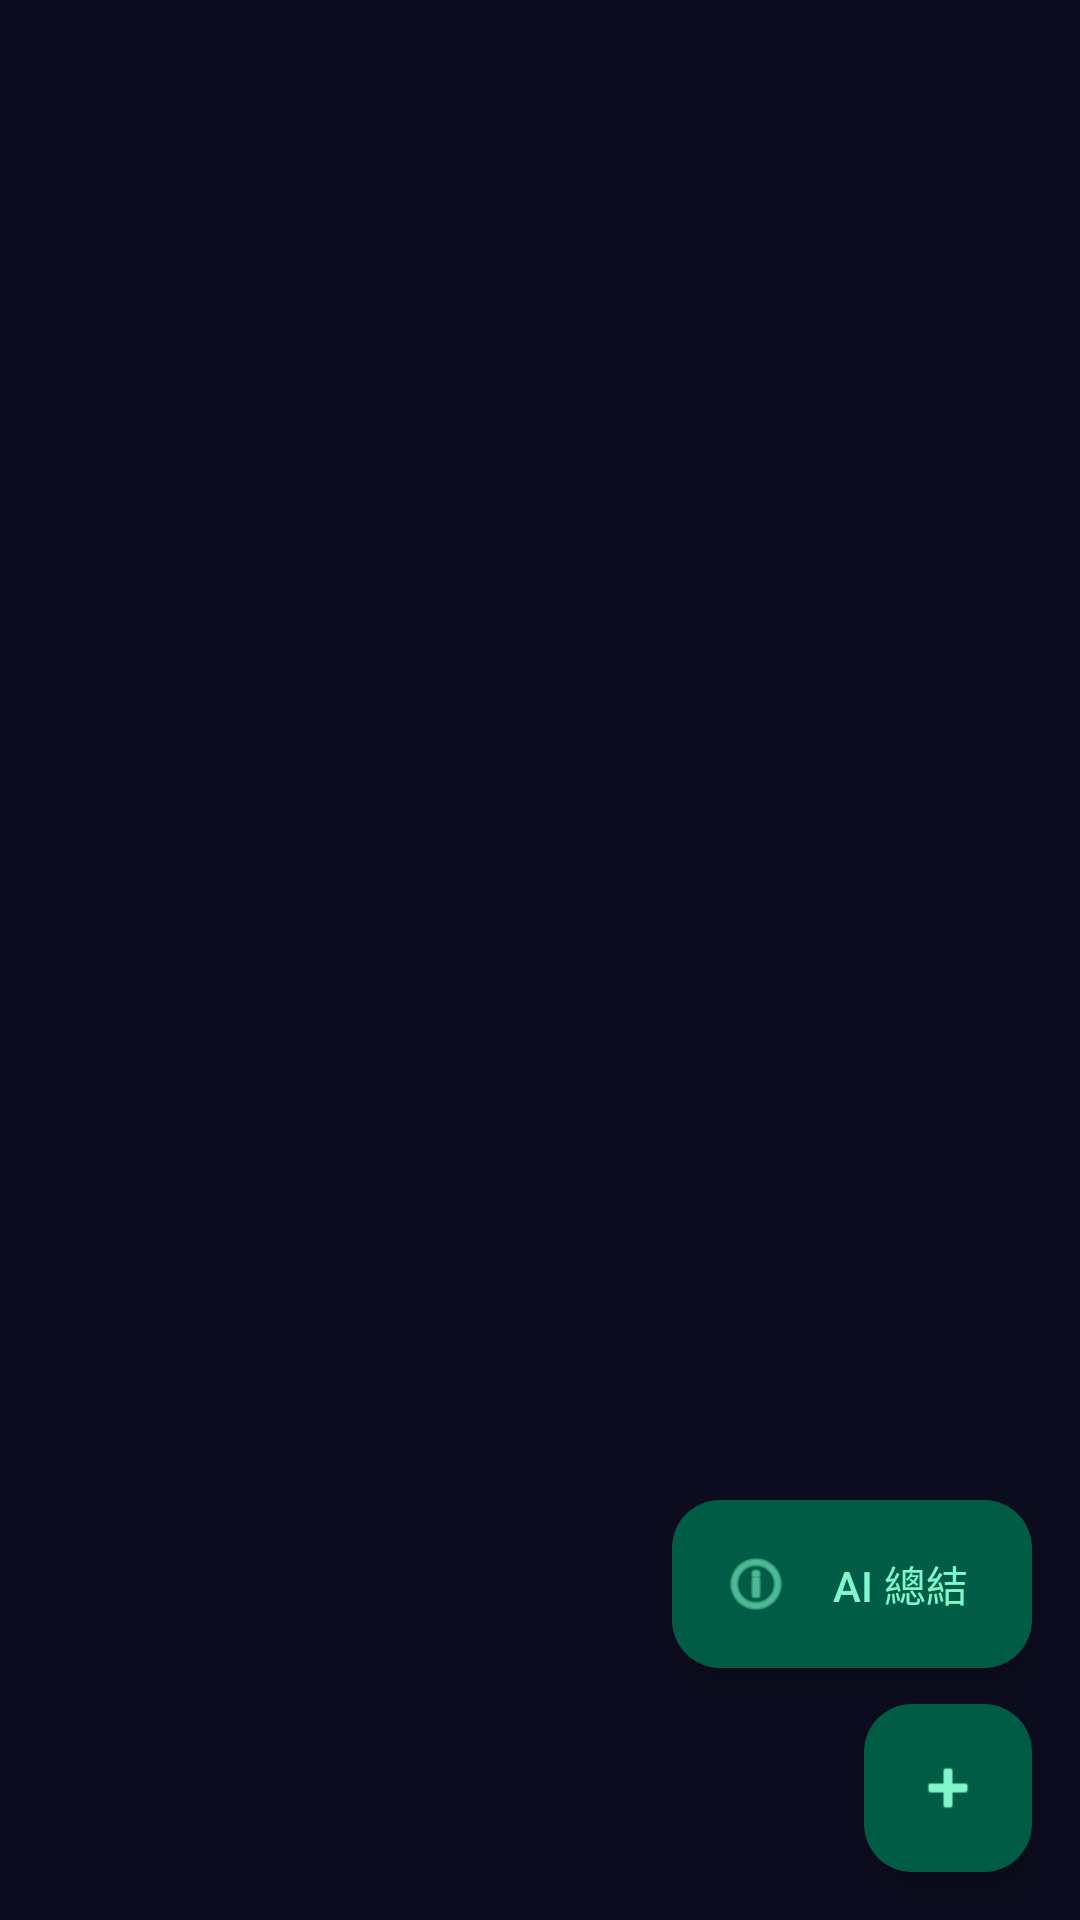

Named icons in this screenshot (1080*1920) and their bounding boxes, (x1, y1, x2, y2):
新增上課紀錄: (864, 1704, 1032, 1872)
